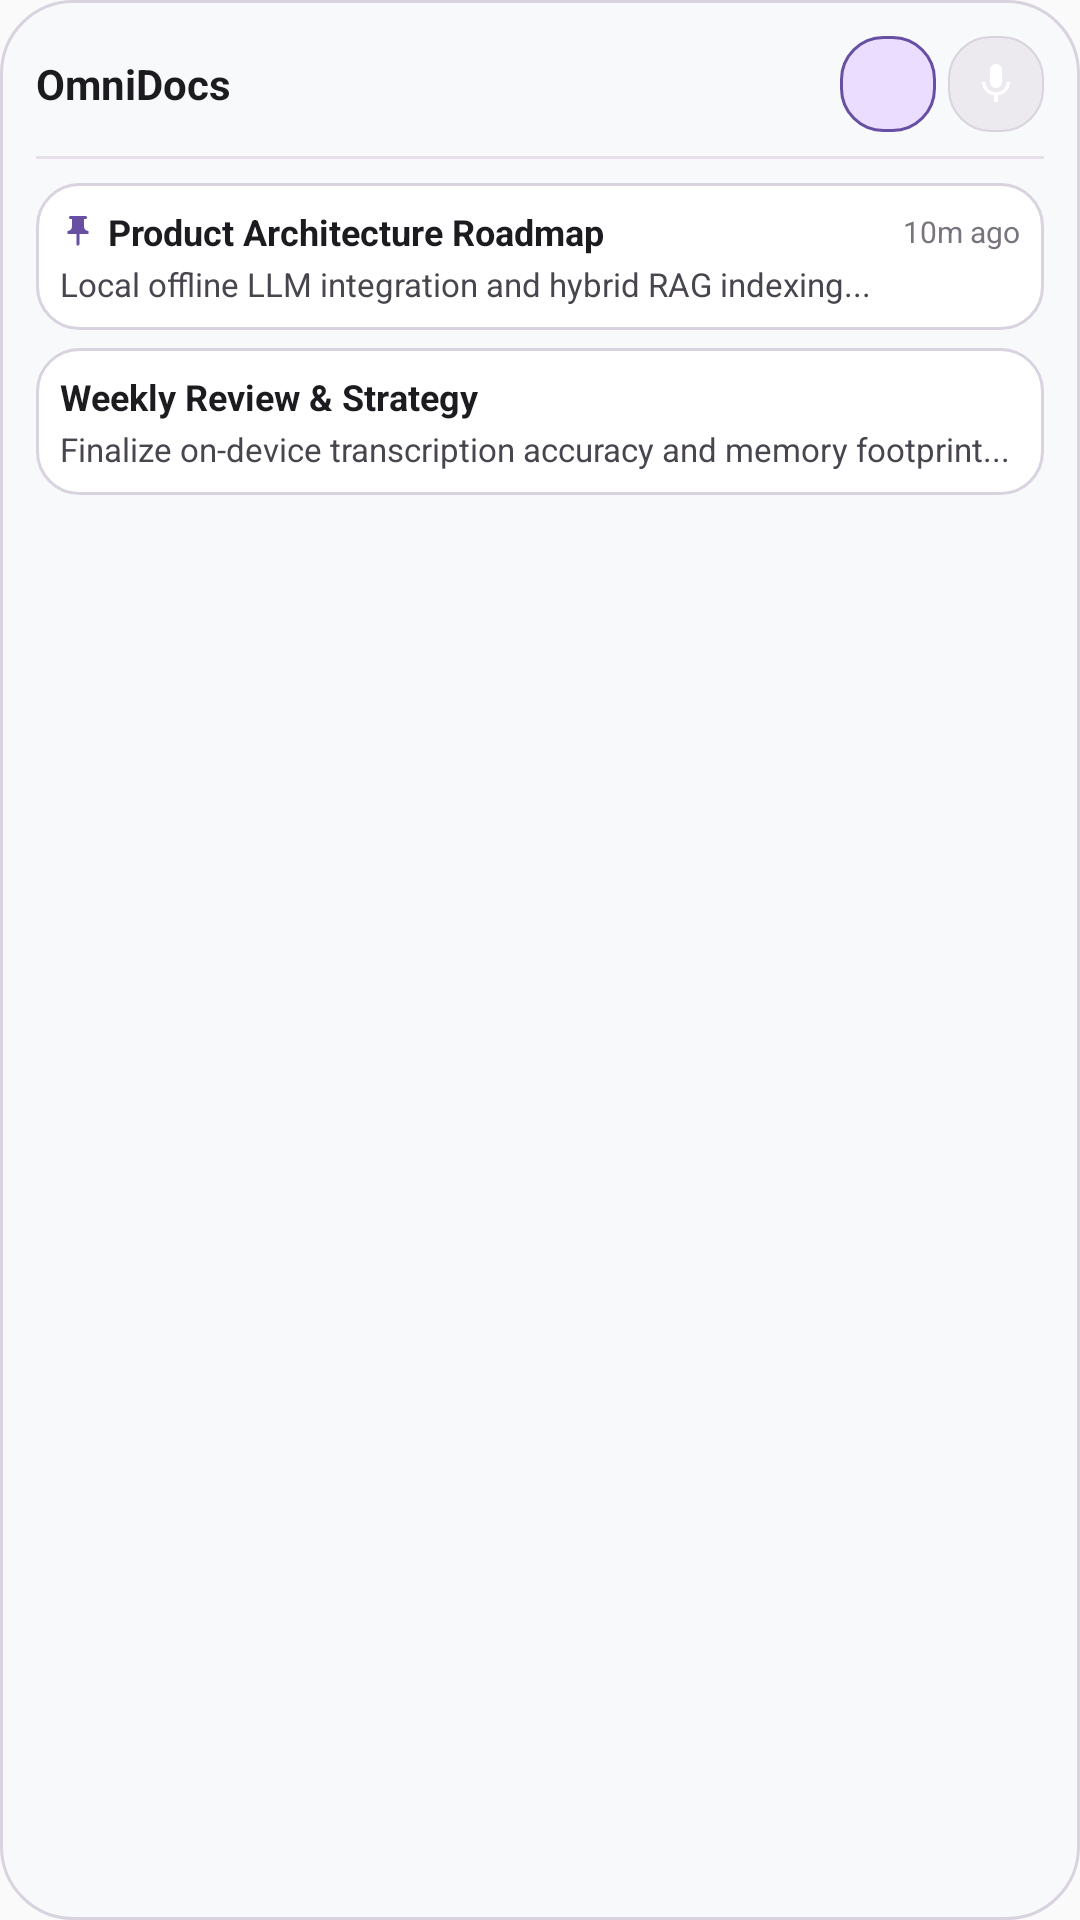

Icon bounding boxes for this 1080×1920 phone screenshot, format bbox=[x1, y1, x2, y2]:
Pinned: bbox=[67, 216, 89, 246]
